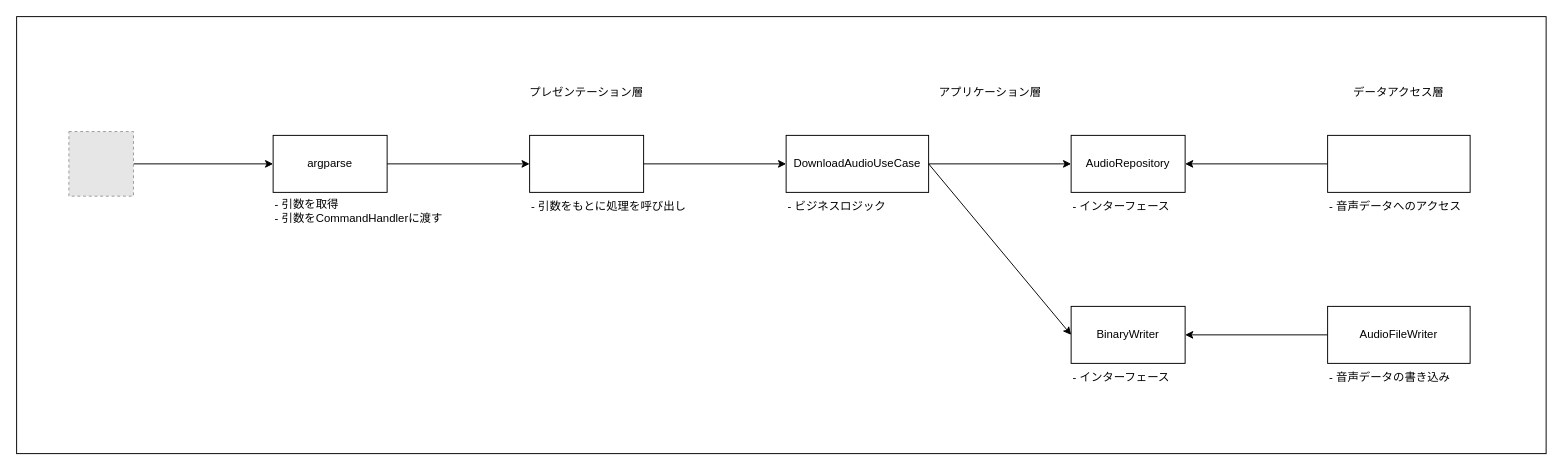
The diagram is 1563 pixels wide and 470 high, and some of its shapes have lost their labels. Grey dashed boxes stand in for pictures. Here are the shapes that lost their labels. From the top down, the box of each, then its label:
(529, 134, 644, 192): CommandHandler
(1327, 134, 1470, 192): GeneralAudioRepository
